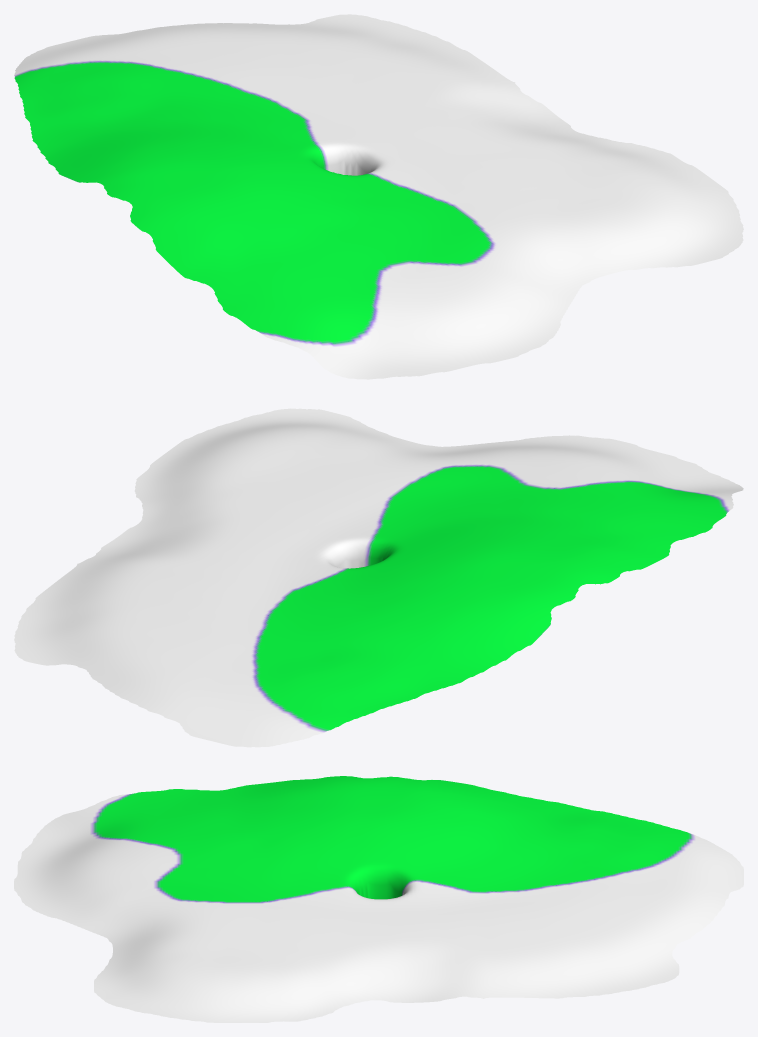
Rendered from sand.fbx.
The picture shows the model from 3 angles, top to bottom: view 1: azimuth 30°, elevation 25°; view 2: azimuth 150°, elevation 25°; view 3: azimuth 270°, elevation 25°; orthographic projection. The views are drawn at different scales.
Visible parts, largest first — view 1: Plane.002; view 2: Plane.002; view 3: Plane.002.
Boxes of the visible parts, left/top/right/bottom form: Plane.002: left=14, top=14, right=743, bottom=379; Plane.002: left=14, top=408, right=743, bottom=747; Plane.002: left=14, top=776, right=743, bottom=1022.
Bounding box in the file's own units: 13488 × 1641 × 19188.
